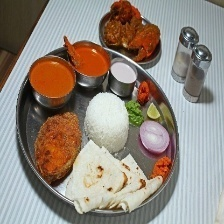roti: (64, 137, 164, 215)
